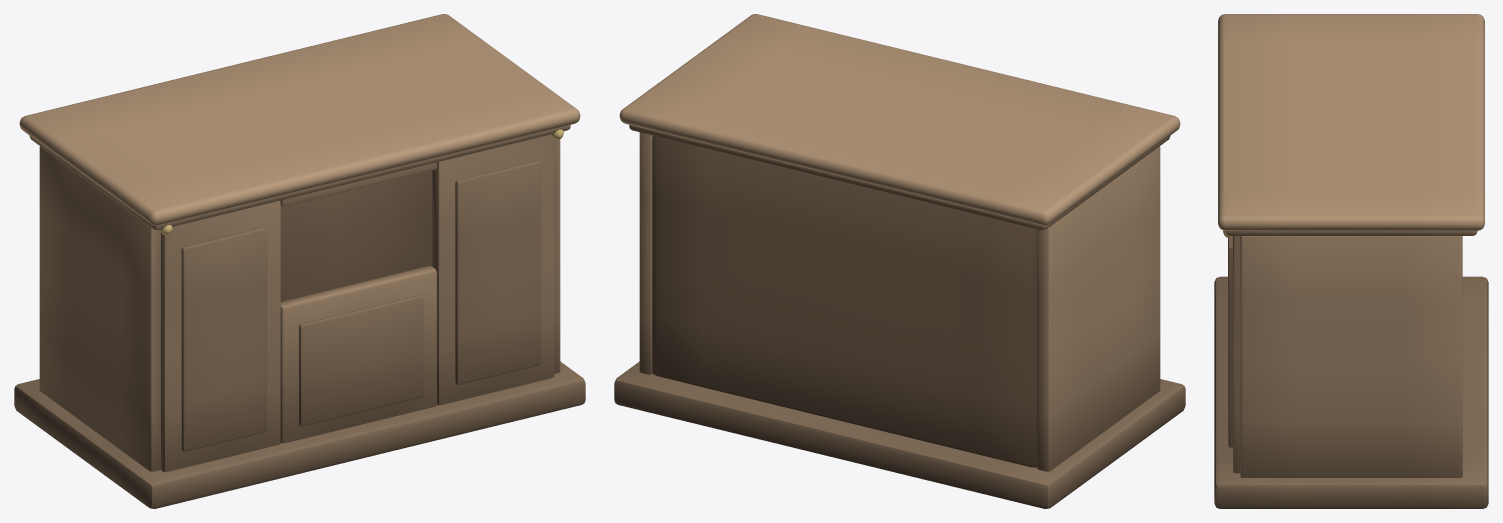
Rendered from obj_kit_teacherdesk.glb.
3 views of the same model, side by side, from view 1: azimuth 30°, elevation 25°; view 2: azimuth 150°, elevation 25°; view 3: azimuth 270°, elevation 25° (orthographic).
Parts seen in each view (by area): view 1: Cube.011, Cube.009, Cube, Cube.007, Cube.006, Cube.001, Cube.008, Cube.003, Cube.002, Cube.004, Cube.012, Cube.010 (+1 smaller); view 2: Cube.001, Cube.011, Cube.009, Cube, Cube.010, Cube.012; view 3: Cube.011, Cube.010, Cube, Cube.003, Cube.012, Cube.007.
Boxes of the visible parts, x1,y1,x2,y2 form: Cube.011: (19,14,580,225); Cube.009: (39,146,160,471); Cube: (14,361,585,508); Cube.007: (455,160,540,384); Cube.006: (181,227,266,451); Cube.001: (280,170,432,301); Cube.008: (299,295,423,426); Cube.003: (432,134,554,405); Cube.002: (161,200,280,471); Cube.004: (280,266,436,443); Cube.012: (29,125,570,230); Cube.010: (554,139,560,373); Cube.001: (652,135,1037,467); Cube.011: (619,14,1180,225); Cube.009: (1037,146,1160,471); Cube: (614,361,1185,508); Cube.010: (639,132,652,374); Cube.012: (629,125,1170,230); Cube.011: (1218,14,1484,230); Cube.010: (1240,236,1462,477); Cube: (1214,276,1488,508); Cube.003: (1233,236,1240,473); Cube.012: (1225,231,1477,235); Cube.007: (1228,237,1232,447).
Bounding box in the file's own units: 1.34 × 0.867 × 0.74.
